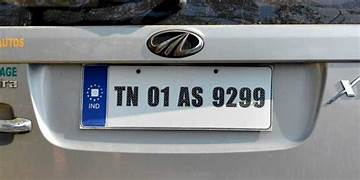number_plate: (83, 64, 271, 127)
